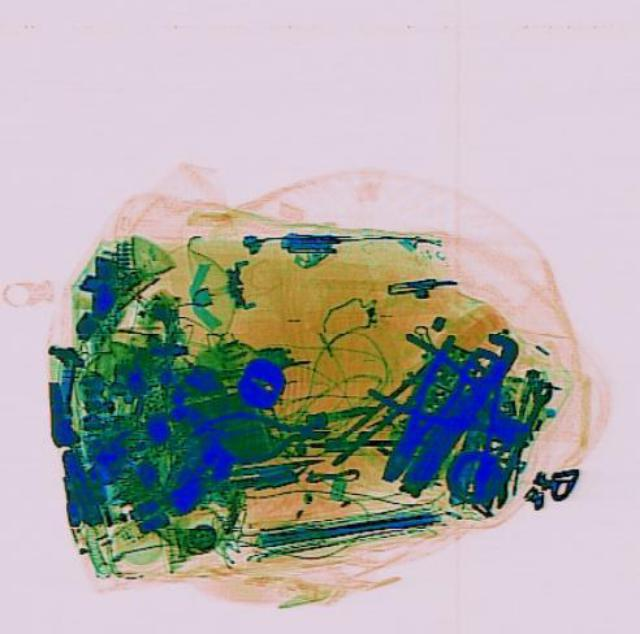Pliers: (364, 328, 488, 487), (190, 399, 328, 469)
Wrench: (477, 373, 555, 512)
